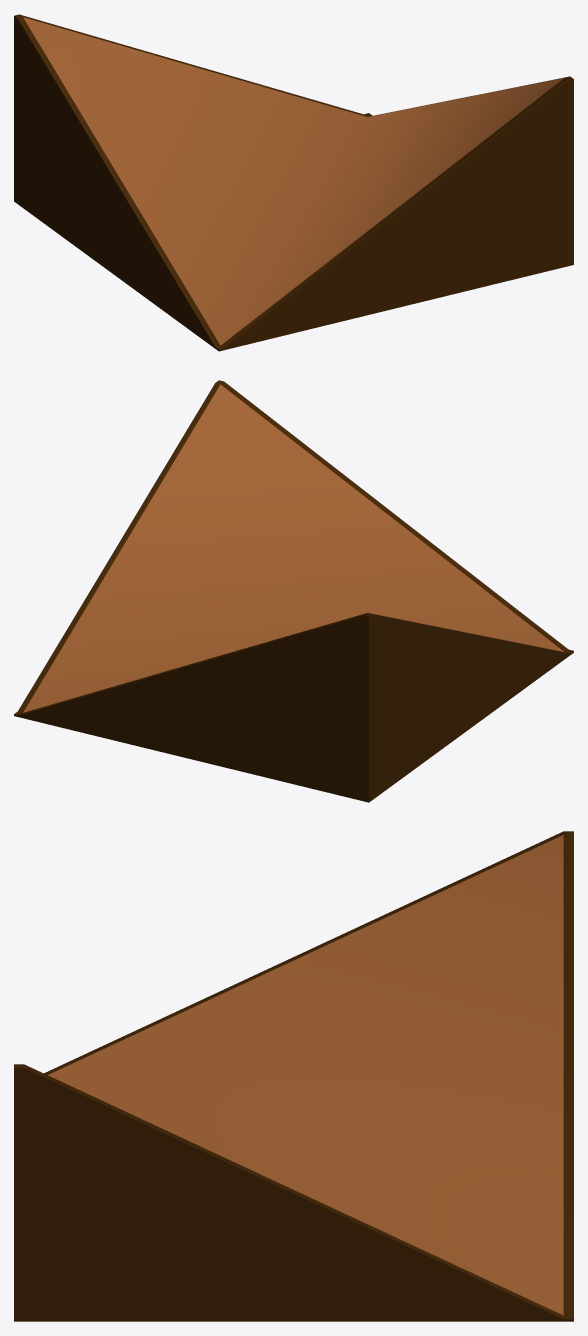
Rendered from Casilla 34.fbx.
The picture shows the model from 3 angles, top to bottom: view 1: azimuth 30°, elevation 25°; view 2: azimuth 150°, elevation 25°; view 3: azimuth 270°, elevation 25°; orthographic projection. The views are drawn at different scales.
Parts seen in each view (by area): view 1: pCube7; view 2: pCube7; view 3: pCube7.
Part boxes in pixels (left/top/right/bottom): pCube7: left=14, top=14, right=573, bottom=351; pCube7: left=14, top=380, right=573, bottom=802; pCube7: left=14, top=831, right=573, bottom=1321.
Size of the model in its own units: 200 by 100 by 200.
